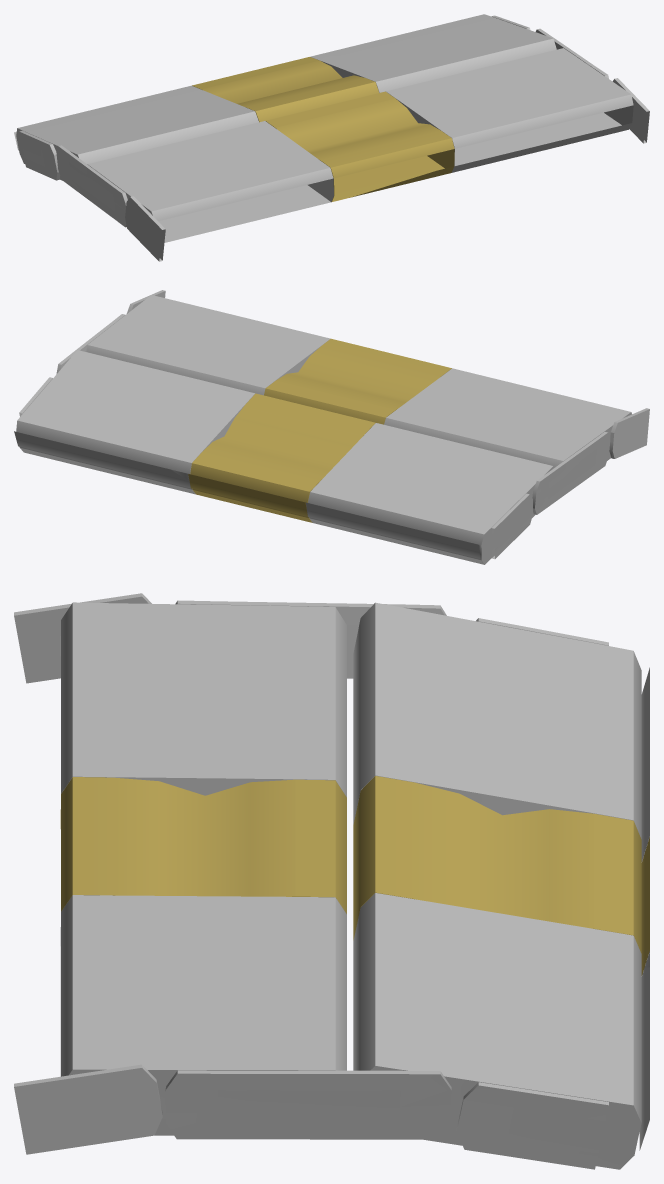
The model's file is two-tone-watch-link.gltf.
The picture shows the model from 3 angles, top to bottom: view 1: azimuth 30°, elevation 25°; view 2: azimuth 150°, elevation 25°; view 3: azimuth 270°, elevation 25°; orthographic projection. The views are drawn at different scales.
Visible parts, largest first — view 1: two-tone-watch.005; view 2: two-tone-watch.005; view 3: two-tone-watch.005.
Part boxes in pixels (x1,y1,x2,y2): two-tone-watch.005: (14, 14, 649, 261); two-tone-watch.005: (14, 290, 649, 564); two-tone-watch.005: (14, 593, 649, 1169).
Bounding box in the file's own units: 0.5049 × 0.0571 × 0.2859.
